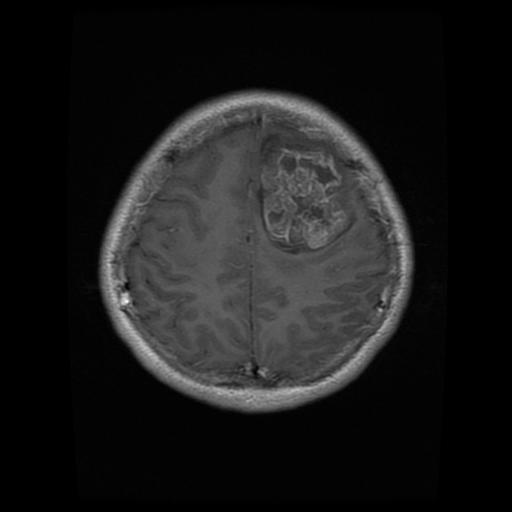Gliomia_tumour: (257, 132, 355, 253)
